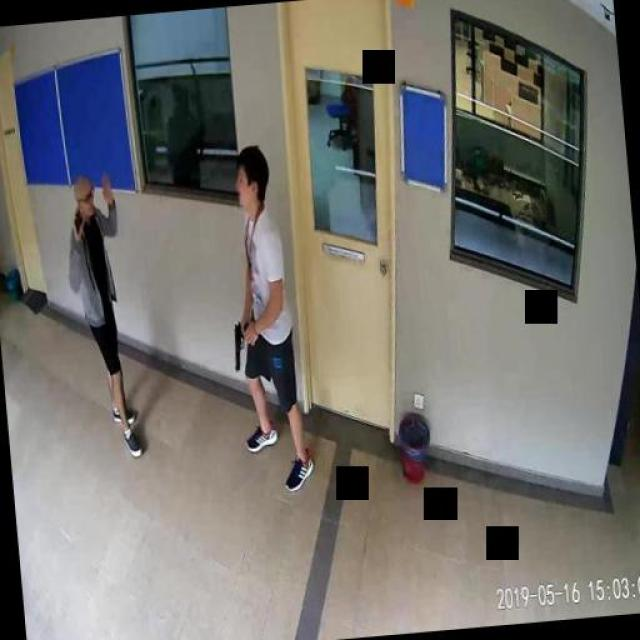gun: (230, 318, 254, 370)
